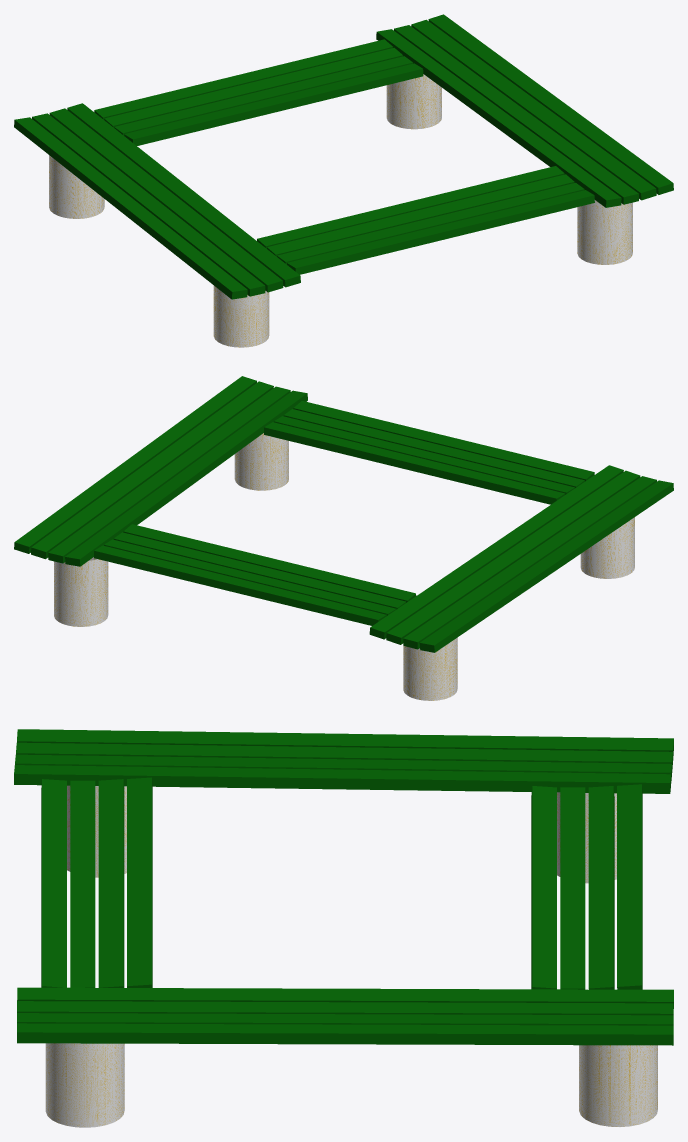
The picture shows the model from 3 angles, top to bottom: view 1: azimuth 30°, elevation 25°; view 2: azimuth 150°, elevation 25°; view 3: azimuth 270°, elevation 25°; orthographic projection. The views are drawn at different scales.
Visible parts, largest first — view 1: mesh1_mesh1-geometry, mesh3_mesh3-geometry, mesh2_mesh2-geometry, mesh5_mesh5-geometry, mesh4_mesh4-geometry; view 2: mesh1_mesh1-geometry, mesh5_mesh5-geometry, mesh4_mesh4-geometry, mesh3_mesh3-geometry, mesh2_mesh2-geometry; view 3: mesh1_mesh1-geometry, mesh3_mesh3-geometry, mesh5_mesh5-geometry, mesh2_mesh2-geometry, mesh4_mesh4-geometry.
Part boxes in pixels (<box>): mesh1_mesh1-geometry: <box>14,14,673,299</box>; mesh3_mesh3-geometry: <box>577,200,632,264</box>; mesh2_mesh2-geometry: <box>213,285,269,347</box>; mesh5_mesh5-geometry: <box>386,74,441,129</box>; mesh4_mesh4-geometry: <box>49,155,104,218</box>; mesh1_mesh1-geometry: <box>14,376,673,652</box>; mesh5_mesh5-geometry: <box>54,557,108,626</box>; mesh4_mesh4-geometry: <box>403,637,457,700</box>; mesh3_mesh3-geometry: <box>234,433,288,490</box>; mesh2_mesh2-geometry: <box>580,517,634,578</box>; mesh1_mesh1-geometry: <box>14,729,673,1045</box>; mesh3_mesh3-geometry: <box>45,1043,124,1127</box>; mesh5_mesh5-geometry: <box>579,1045,657,1126</box>; mesh2_mesh2-geometry: <box>67,785,126,877</box>; mesh4_mesh4-geometry: <box>557,792,616,883</box>.
Bounding box in the file's own units: 0.7347 × 0.1236 × 0.6671.
